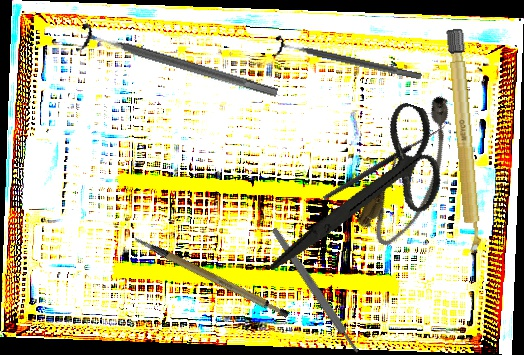Cannula: (351, 89, 477, 254)
Fixation Ring: (75, 20, 282, 109), (272, 33, 424, 89)
Hook Surgical: (318, 117, 449, 202)
Iris Scissors: (266, 77, 462, 312)
Scalpel Handle: (132, 213, 292, 338), (270, 226, 361, 355), (445, 26, 483, 258)
